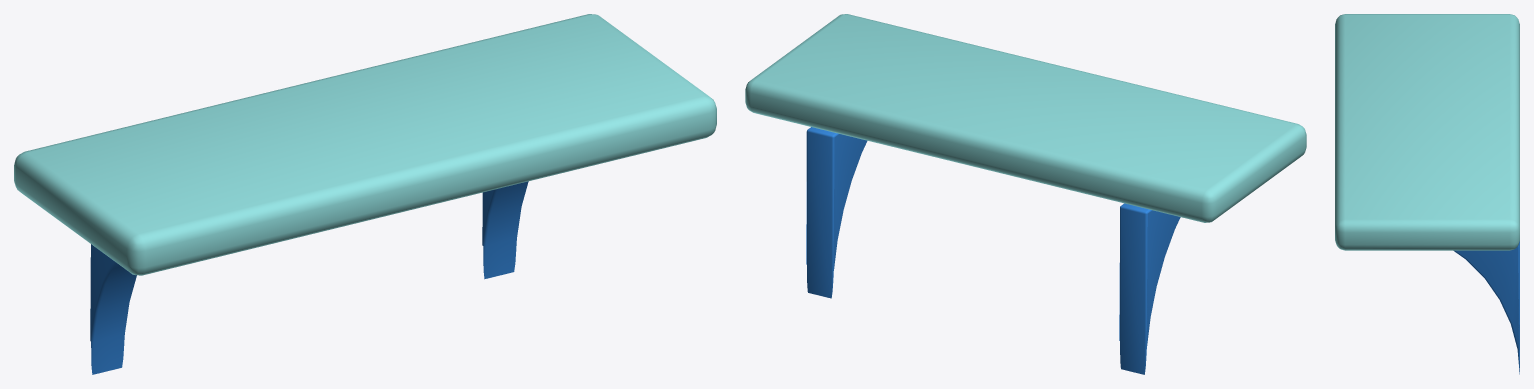
Rendered from prateleira_maos_francesas_turquesa.glb.
3 renders of one model, left to right at view 1: azimuth 30°, elevation 25°; view 2: azimuth 150°, elevation 25°; view 3: azimuth 270°, elevation 25°, orthographic. The views are drawn at different scales.
Parts seen in each view (by area): view 1: prateleira_maos_francesas_turquesa; view 2: prateleira_maos_francesas_turquesa; view 3: prateleira_maos_francesas_turquesa.
Boxes of the visible parts, left/top/right/bottom form: prateleira_maos_francesas_turquesa: left=14, top=14, right=716, bottom=374; prateleira_maos_francesas_turquesa: left=745, top=14, right=1306, bottom=374; prateleira_maos_francesas_turquesa: left=1335, top=14, right=1519, bottom=374.
Bounding box in the file's own units: 0.6 × 0.2386 × 0.22.
1 material, 1 textured.
